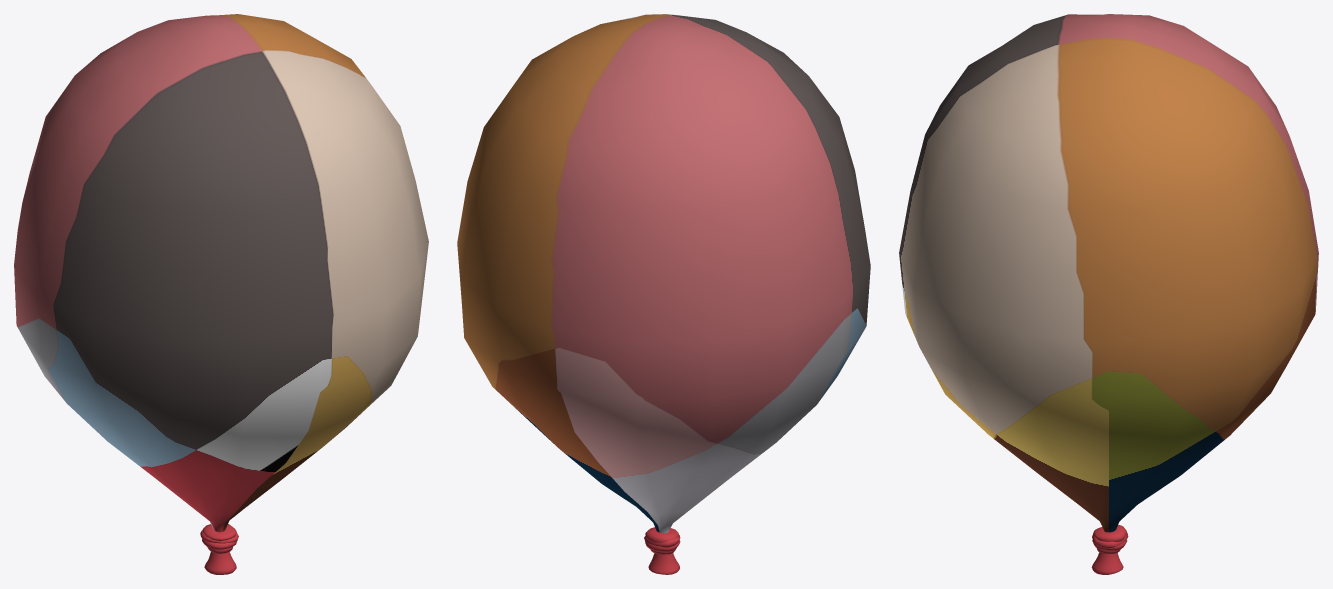
Rendered from Balloon.fbx.
3 views of the same model, side by side, from view 1: azimuth 30°, elevation 25°; view 2: azimuth 150°, elevation 25°; view 3: azimuth 270°, elevation 25° (orthographic).
Parts seen in each view (by area): view 1: Balloon; view 2: Balloon; view 3: Balloon.
Boxes of the visible parts, x1,y1,x2,y2 form: Balloon: [14, 14, 428, 574]; Balloon: [457, 14, 870, 574]; Balloon: [899, 14, 1318, 574].
Bounding box in the file's own units: 178 × 254 × 178.
